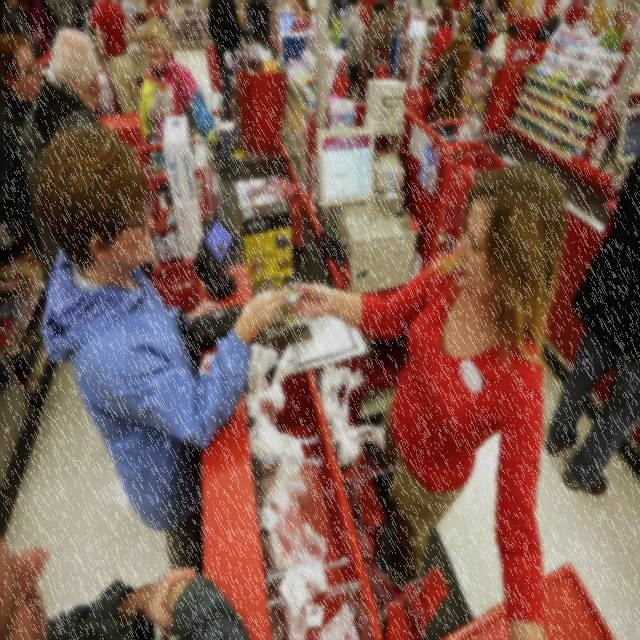pessoa: (284, 147, 574, 639), (36, 121, 292, 577), (542, 150, 640, 497), (19, 24, 100, 292), (135, 15, 215, 209), (420, 7, 474, 143), (90, 0, 146, 116), (0, 0, 86, 61), (207, 0, 247, 123), (542, 33, 620, 89), (422, 0, 456, 125), (458, 47, 499, 119), (248, 0, 274, 105), (364, 0, 397, 80), (344, 0, 367, 103), (234, 173, 284, 210), (486, 21, 520, 68), (326, 0, 344, 83), (471, 0, 497, 54), (532, 3, 562, 43), (290, 0, 312, 32)
